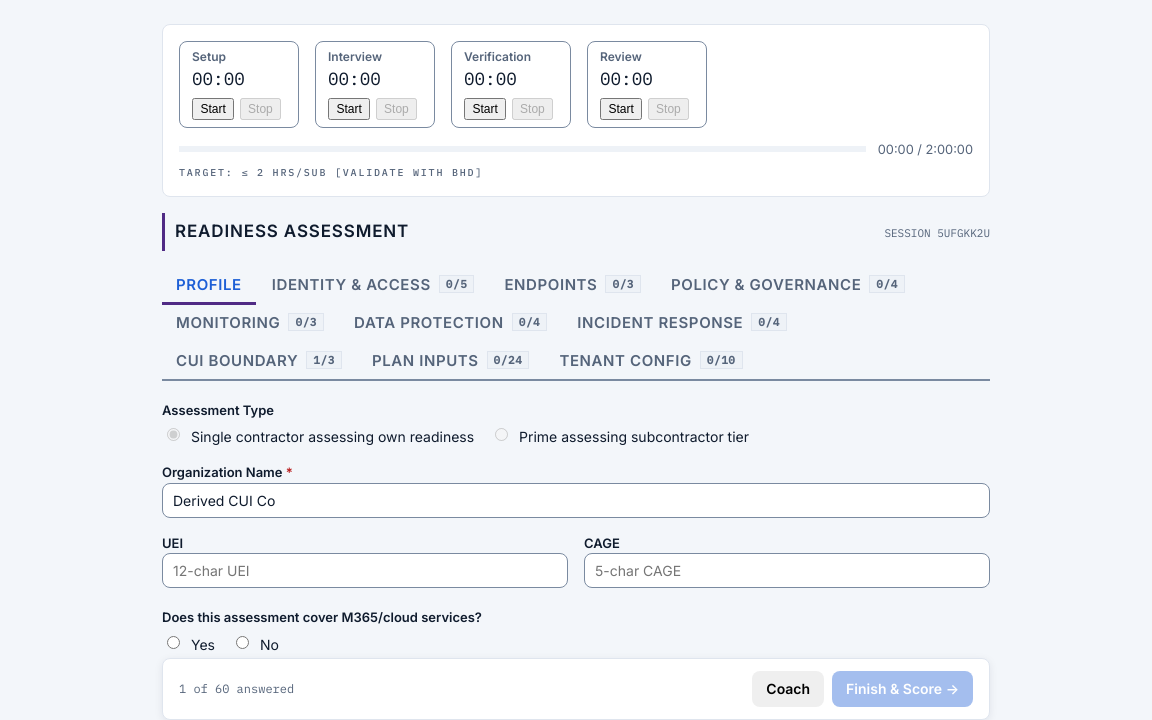
Scenario: MU-10 precedence in the interview › bnd-001 answered yes derives G-02, so the interview prunes G-02
What coordinates should you click on to do the following:
click the tab with test id "tab-plan-input:si"
I would click on:
 (451, 362)
Its box is top-left (358, 343), bottom-right (543, 381).
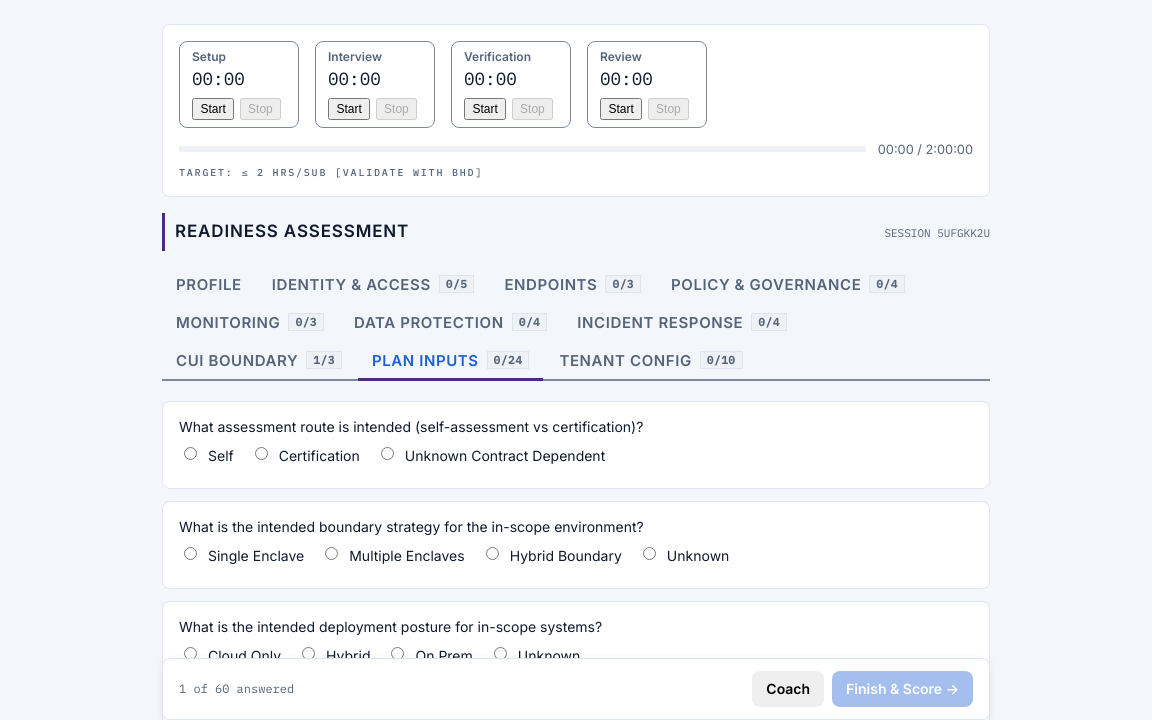
Now the radio button named "G-05" is shown, box top-left (184, 447), bottom-right (197, 460)
